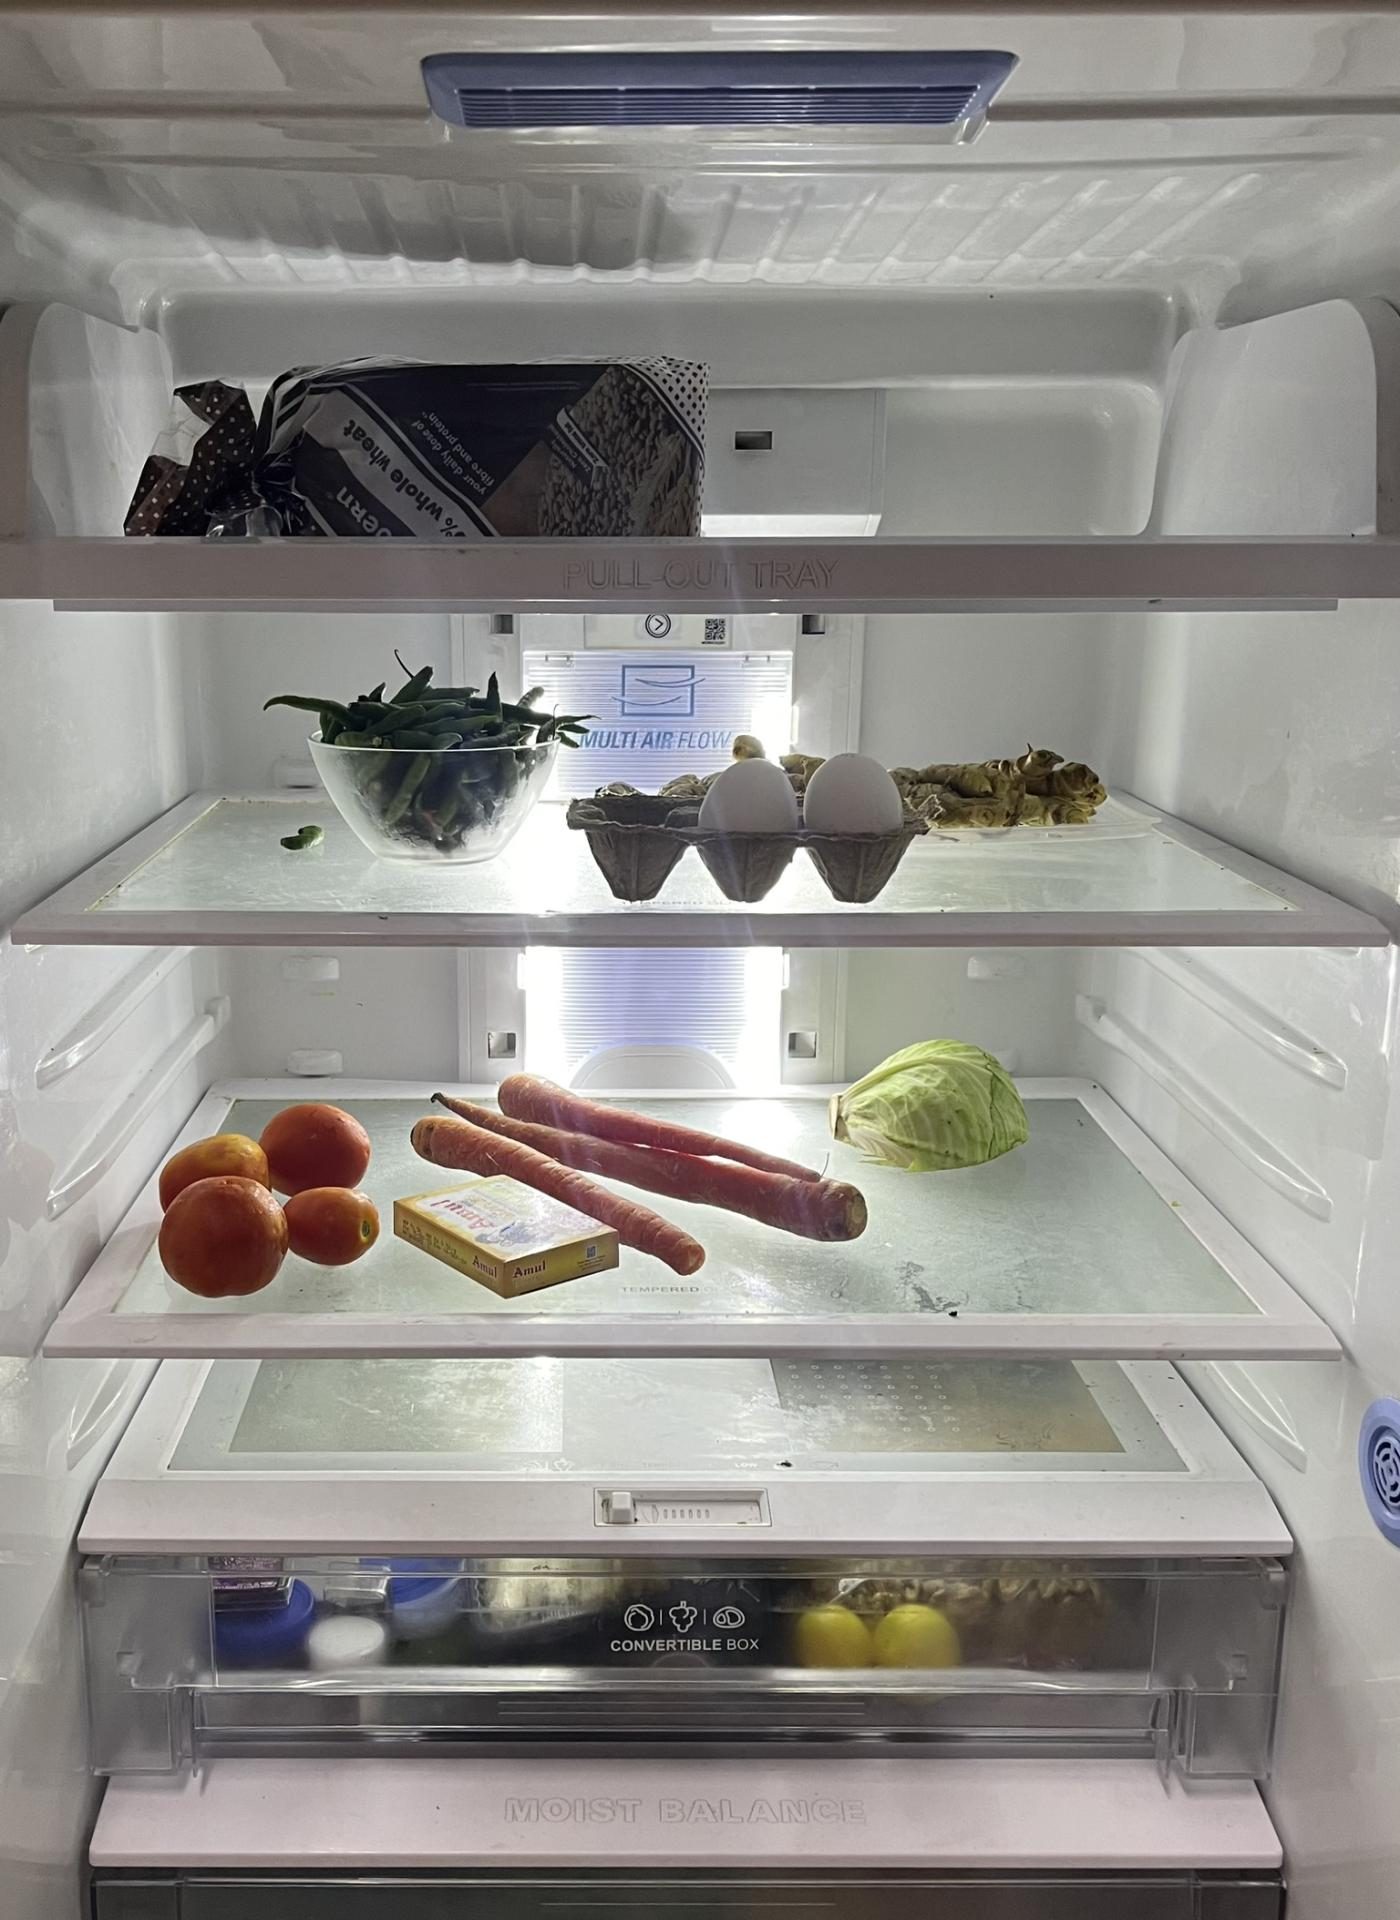bread: (140, 353, 711, 541)
butter: (401, 1175, 632, 1300)
cabbage: (829, 1034, 1034, 1168)
carrots: (397, 1077, 882, 1287)
chillies: (310, 662, 565, 847)
egg: (711, 753, 914, 847)
ginger: (897, 751, 1104, 834)
tomato: (157, 1146, 384, 1297), (253, 1100, 378, 1187)
